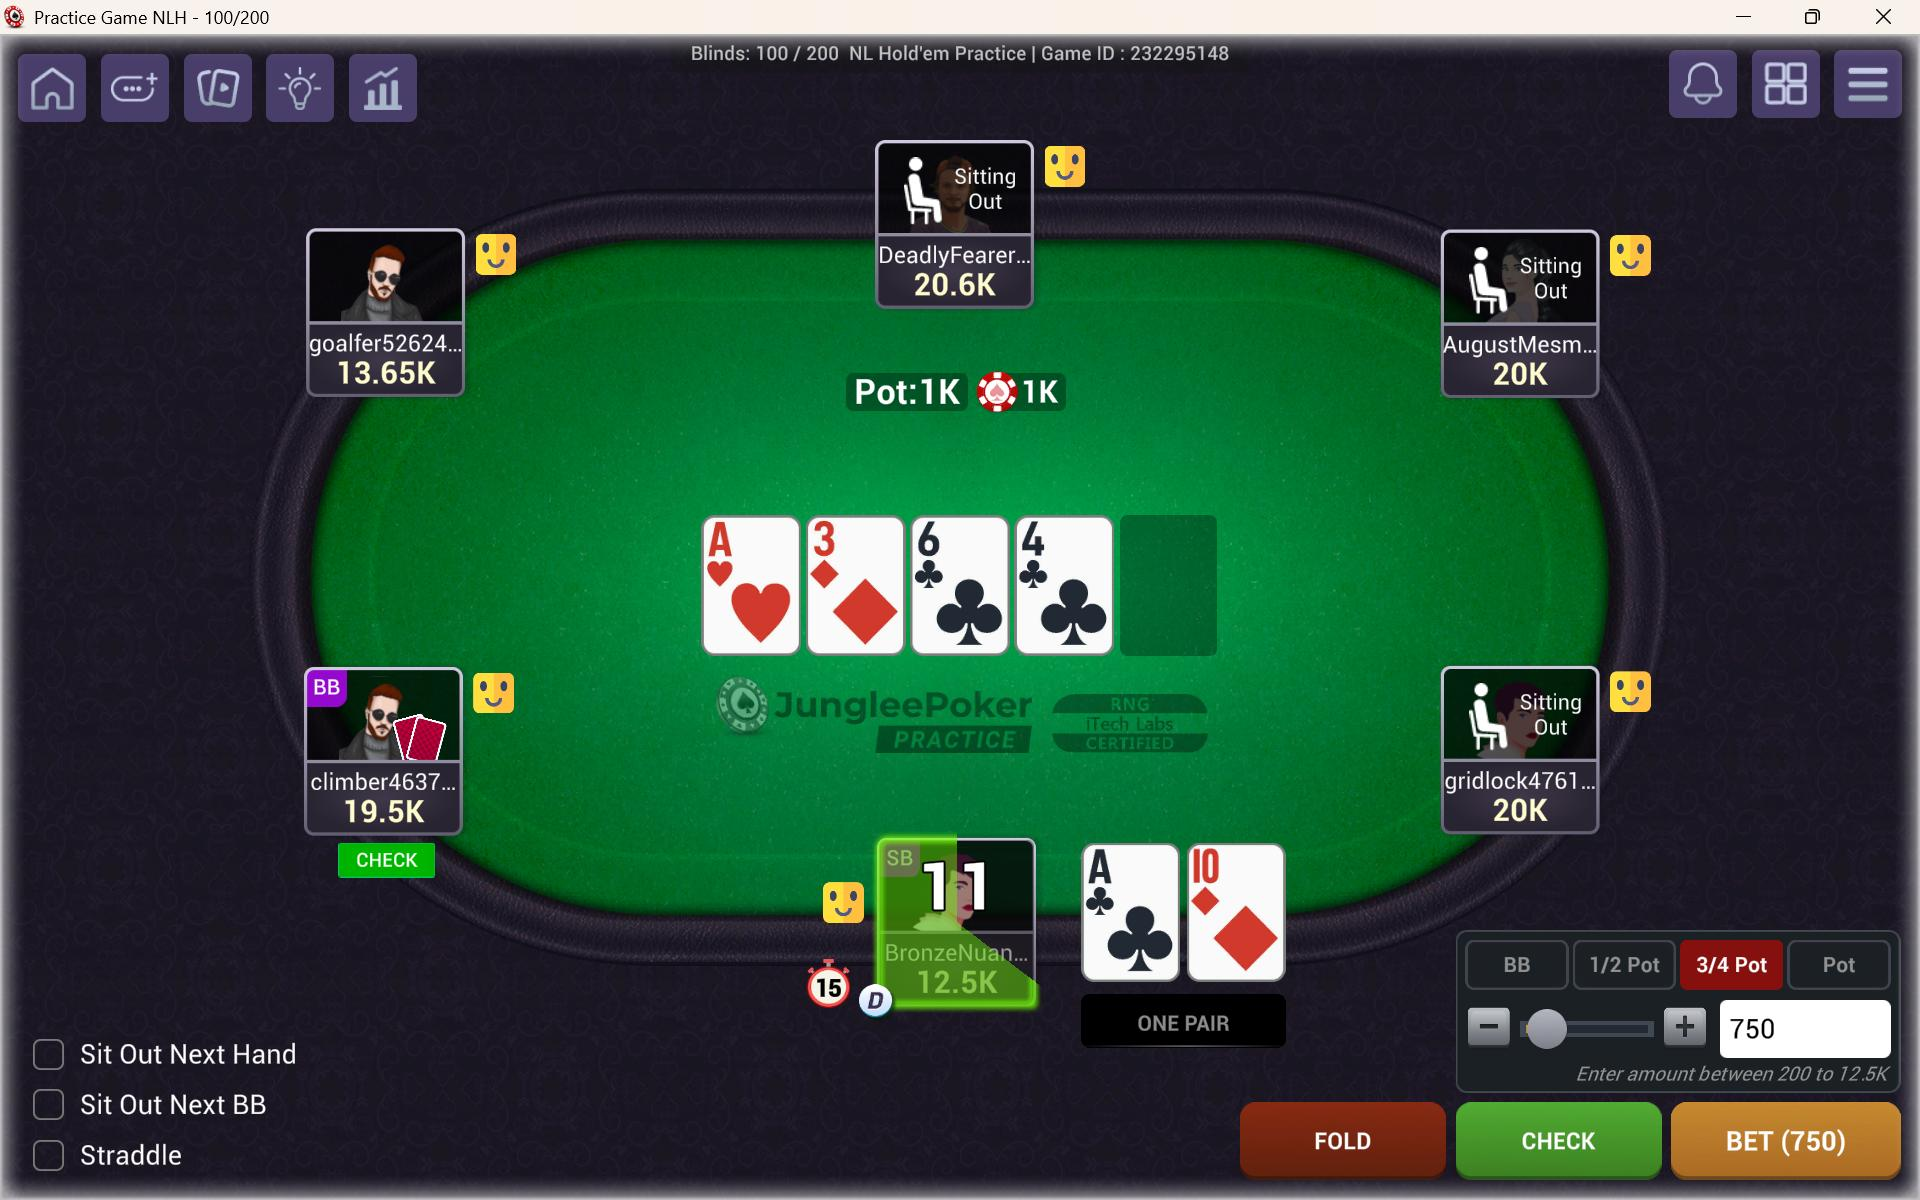button_bet: (1667, 1102, 1901, 1175)
button_check: (1456, 1098, 1666, 1181)
button_fold: (1245, 1105, 1447, 1175)
card1_rank: (1085, 842, 1128, 890)
card2_rank: (1190, 845, 1237, 890)
card2_suite_club: (1098, 903, 1178, 980)
card2_suite_diamond: (1200, 900, 1277, 980)
flop1_rank: (705, 516, 755, 563)
flop1_suite_heart: (720, 570, 800, 647)
flop2_rank: (813, 517, 853, 563)
flop2_suite_diamond: (825, 570, 900, 653)
flop3_rank: (915, 516, 973, 567)
flop3_suite_club: (937, 570, 1010, 655)
game_id: (1038, 37, 1250, 71)
iinput_field: (1715, 1000, 1890, 1058)
my_stack: (910, 962, 1015, 1011)
total_pot: (842, 371, 1070, 418)
turn_rank: (1020, 513, 1070, 563)
turn_suite_club: (1030, 565, 1113, 655)
villian1_name: (307, 763, 464, 798)
villian1_stack: (325, 795, 442, 832)
villian2_name: (307, 335, 458, 362)
villian2_stack: (330, 353, 445, 387)
villian3_name: (878, 232, 1030, 270)
villian3_stack: (881, 265, 1030, 297)
villian4_name: (1447, 325, 1592, 355)
villian4_stack: (1469, 355, 1574, 398)
villian5_name: (1443, 763, 1605, 800)
villian5_stack: (1462, 792, 1565, 825)
